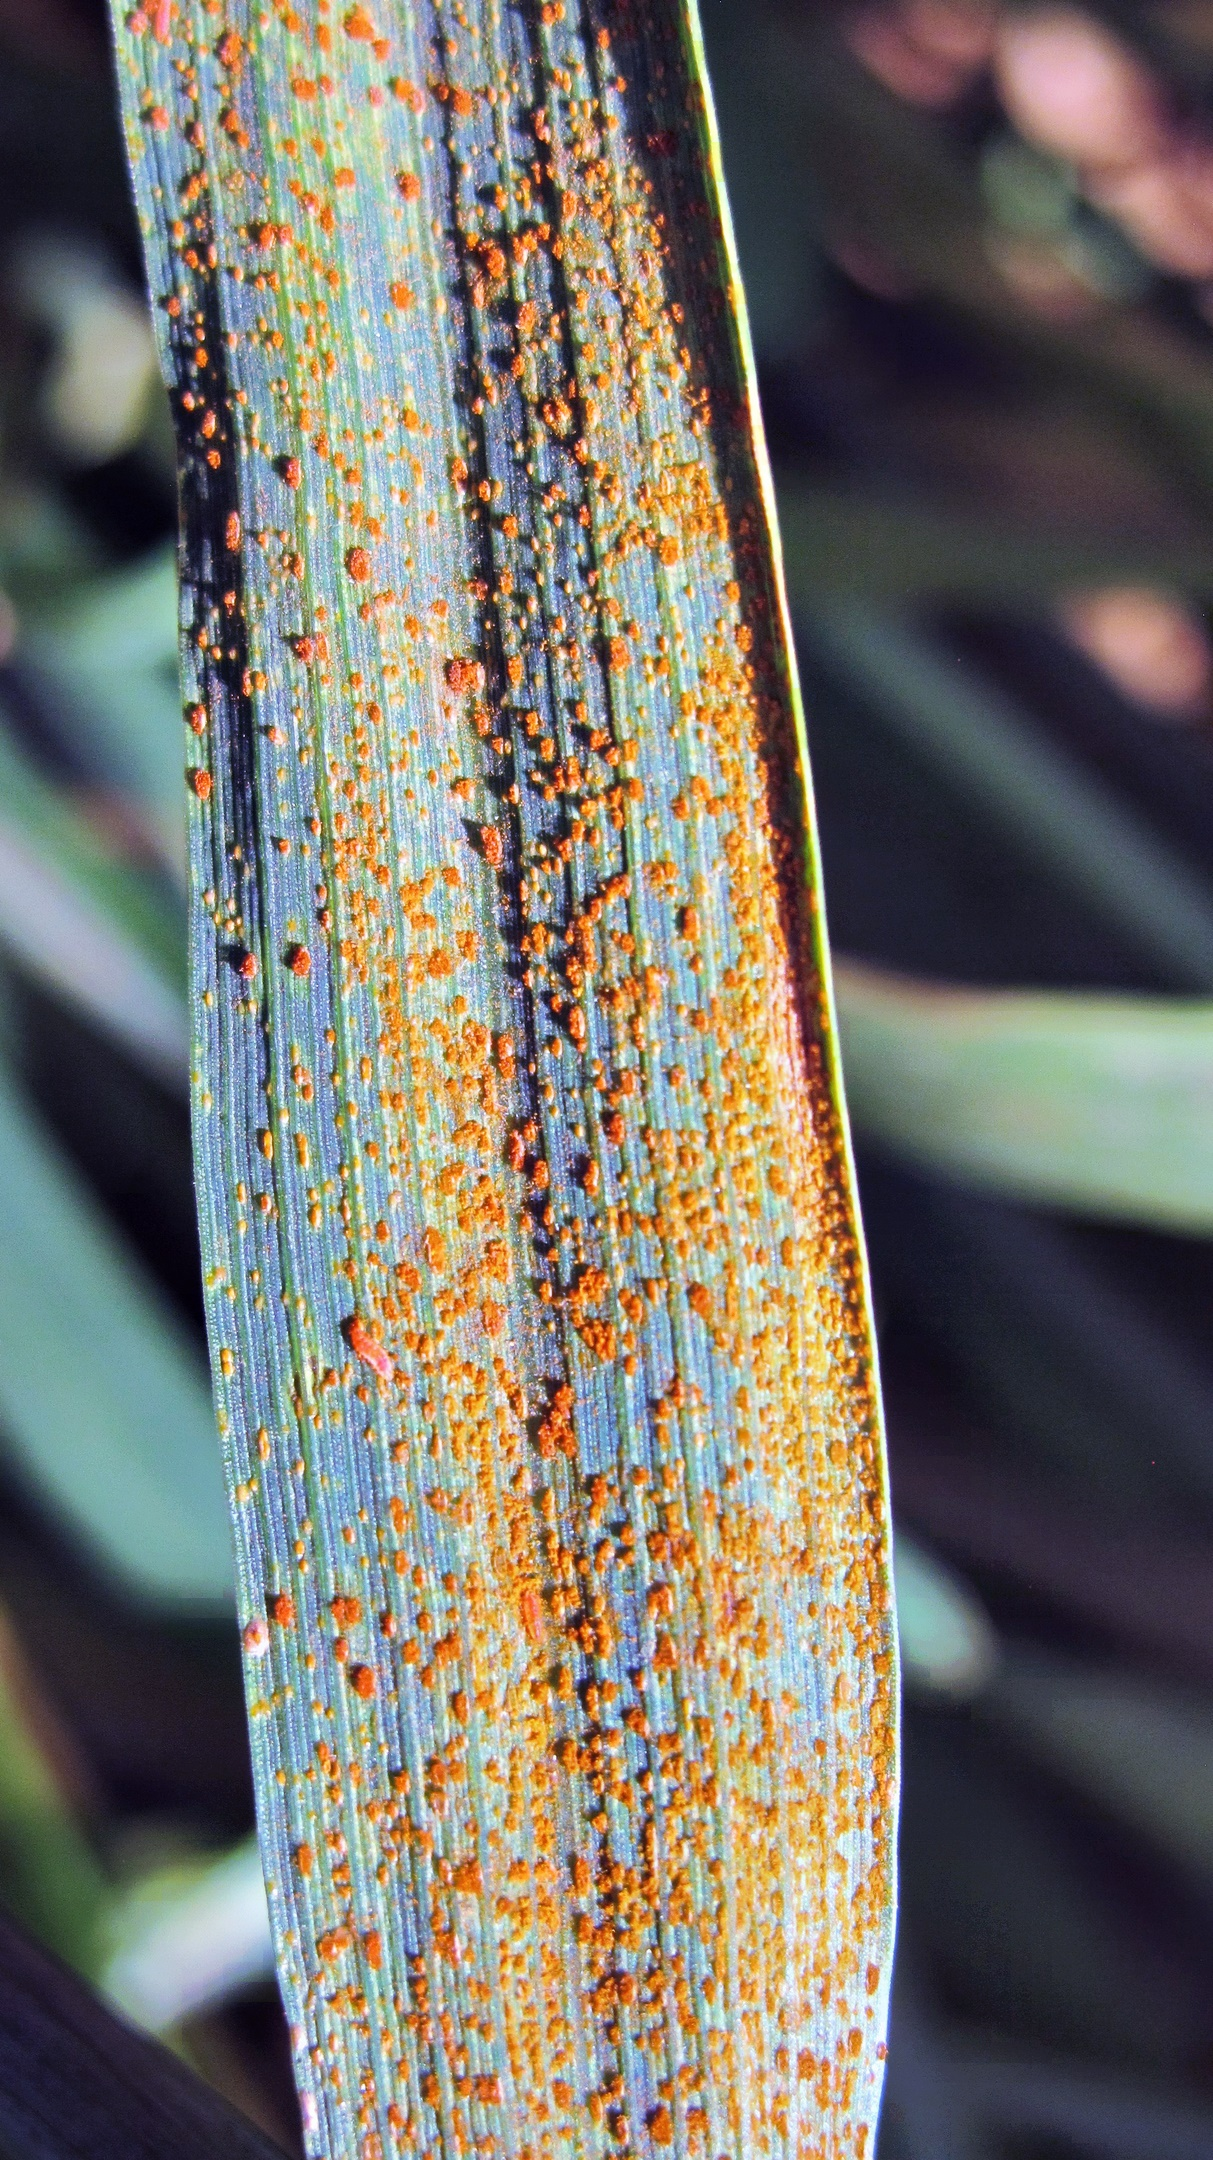Leaf Rust: (119, 82, 940, 2108)
